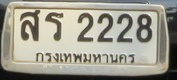Bangkok: (34, 48, 136, 69)
